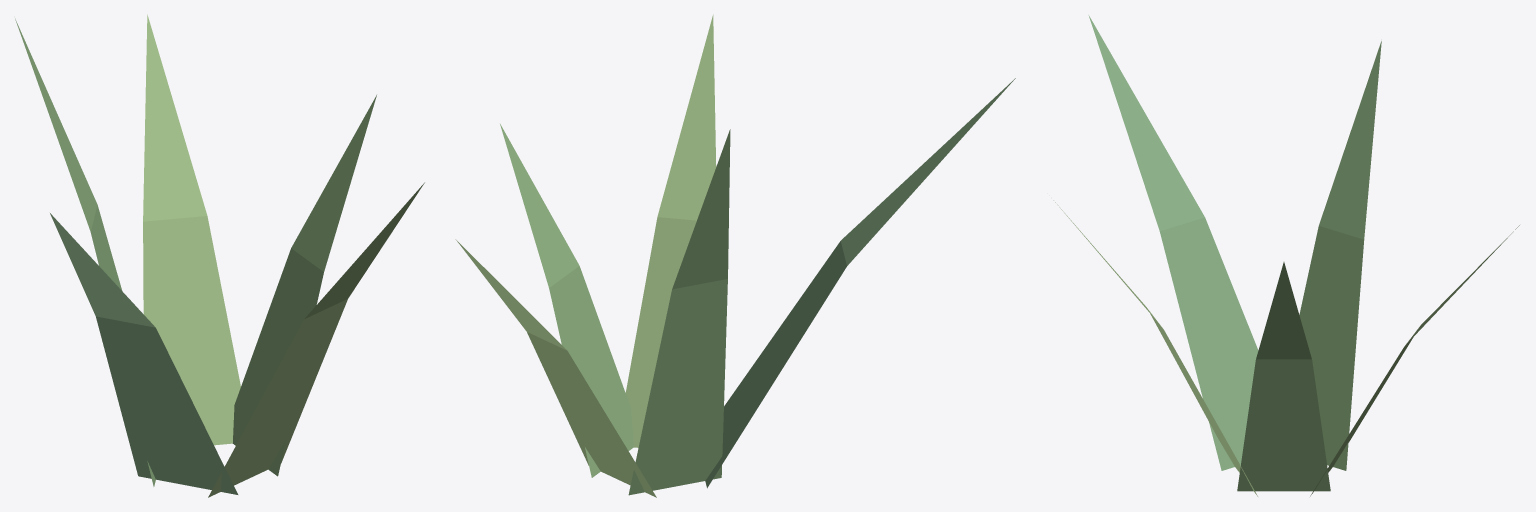
File: tuft_0.gltf
The picture shows the model from 3 angles, left to right: view 1: azimuth 30°, elevation 25°; view 2: azimuth 150°, elevation 25°; view 3: azimuth 270°, elevation 25°; orthographic projection. The views are drawn at different scales.
Parts seen in each view (by area): view 1: tuft_0; view 2: tuft_0; view 3: tuft_0.
Boxes of the visible parts, x1,y1,x2,y2 form: tuft_0: (15,14,424,497); tuft_0: (455,14,1015,497); tuft_0: (1053,15,1519,496).
Size of the model in its own units: 0.4189 by 0.4 by 0.4565.
